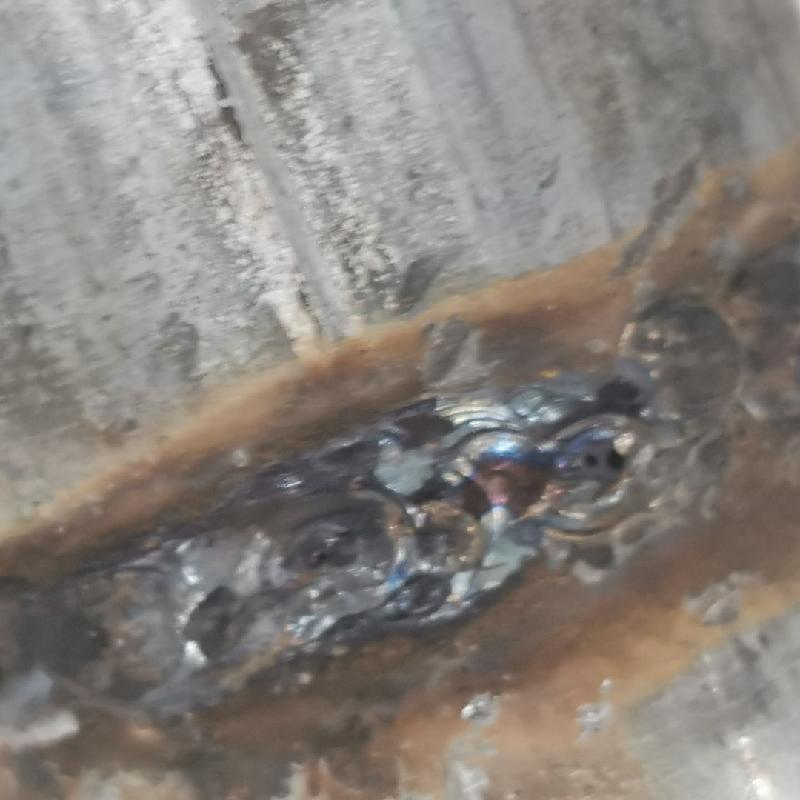Surface_pores: (569, 440, 644, 481)
wrong_size: (0, 530, 249, 732), (601, 242, 799, 428)
